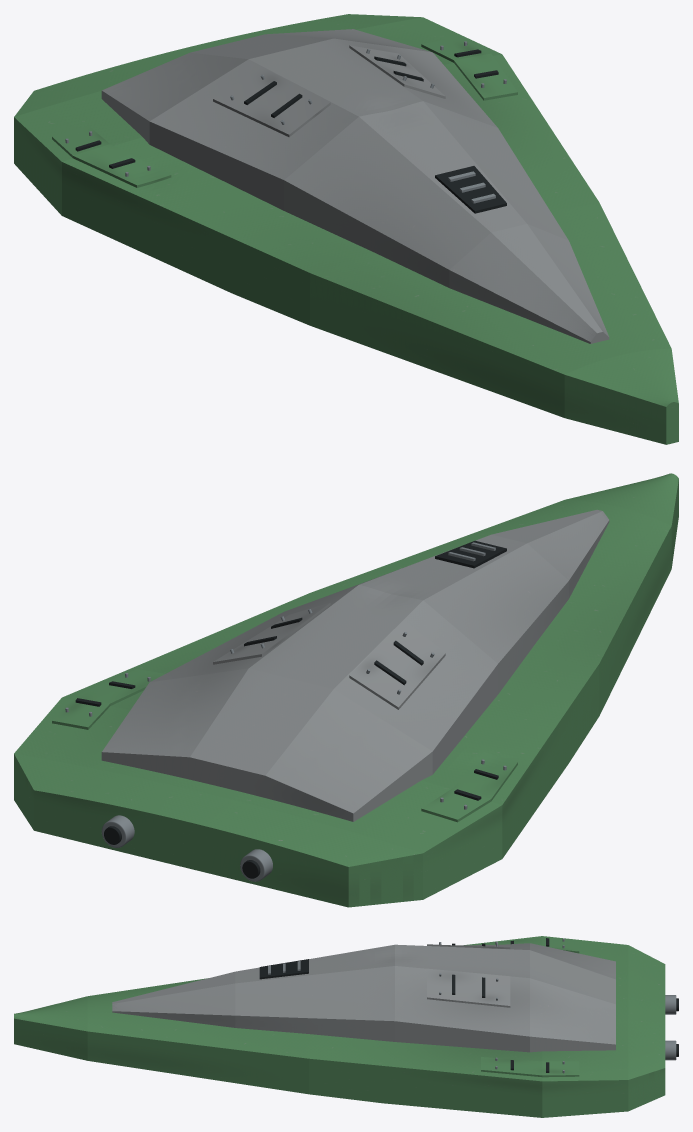
3 views of the same model, one above another, from view 1: azimuth 30°, elevation 25°; view 2: azimuth 150°, elevation 25°; view 3: azimuth 270°, elevation 25° (orthographic). The views are drawn at different scales.
Parts seen in each view (by area): view 1: Gerla-Kans green lower hull, Gerla-Kans grey upper shell, Gerla-Kans service cover 0, Gerla-Kans service cover 2, Gerla-Kans service cover 3, Gerla-Kans forward service inset, Gerla-Kans service cover 1; view 2: Gerla-Kans green lower hull, Gerla-Kans grey upper shell, Gerla-Kans service cover 0, Gerla-Kans service cover 2, Gerla-Kans service cover 3, Gerla-Kans service cover 1, Gerla-Kans forward service inset; view 3: Gerla-Kans green lower hull, Gerla-Kans grey upper shell, Gerla-Kans service cover 1, Gerla-Kans service cover 3, Gerla-Kans forward service inset, Gerla-Kans service cover 2.
Boxes of the visible parts, <box> form: Gerla-Kans green lower hull: <box>14,14,678,444</box>; Gerla-Kans grey upper shell: <box>101,29,609,343</box>; Gerla-Kans service cover 0: <box>213,67,330,137</box>; Gerla-Kans service cover 2: <box>52,125,171,187</box>; Gerla-Kans service cover 3: <box>421,37,517,100</box>; Gerla-Kans forward service inset: <box>435,166,506,213</box>; Gerla-Kans service cover 1: <box>349,45,445,98</box>; Gerla-Kans green lower hull: <box>14,473,678,907</box>; Gerla-Kans grey upper shell: <box>101,509,609,821</box>; Gerla-Kans service cover 0: <box>349,620,445,709</box>; Gerla-Kans service cover 2: <box>421,752,517,822</box>; Gerla-Kans service cover 3: <box>52,669,164,729</box>; Gerla-Kans service cover 1: <box>213,602,330,664</box>; Gerla-Kans forward service inset: <box>435,540,506,568</box>; Gerla-Kans green lower hull: <box>14,936,665,1117</box>; Gerla-Kans grey upper shell: <box>112,943,615,1052</box>; Gerla-Kans service cover 1: <box>427,968,510,1007</box>; Gerla-Kans service cover 3: <box>481,1057,579,1077</box>; Gerla-Kans forward service inset: <box>259,959,308,979</box>; Gerla-Kans service cover 2: <box>481,937,579,953</box>.
Size of the model in its own units: 1.4 by 0.4146 by 2.71.
4 materials, 2 textured.
